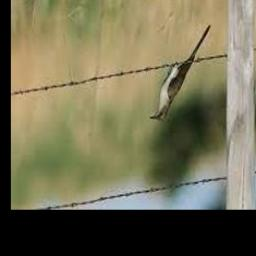Cuckoo: (148, 25, 210, 122)
